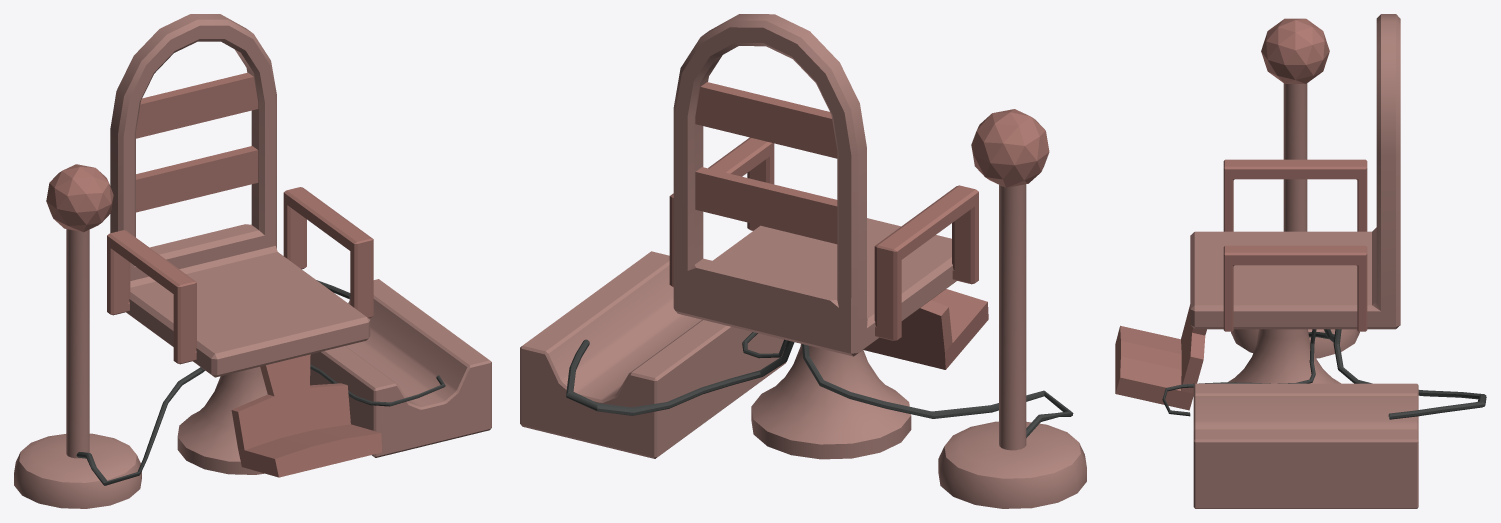
File: Closed.Electiric.fbx
3 views of the same model, side by side, from view 1: azimuth 30°, elevation 25°; view 2: azimuth 150°, elevation 25°; view 3: azimuth 270°, elevation 25° (orthographic). The views are drawn at different scales.
Parts seen in each view (by area): view 1: Closed.Electiric; view 2: Closed.Electiric; view 3: Closed.Electiric.
Part boxes in pixels (x1,y1,x2,y2): Closed.Electiric: (14, 14, 491, 508); Closed.Electiric: (520, 14, 1086, 508); Closed.Electiric: (1115, 14, 1486, 508).
Size of the model in its own units: 4.6 by 4.1 by 3.53.
